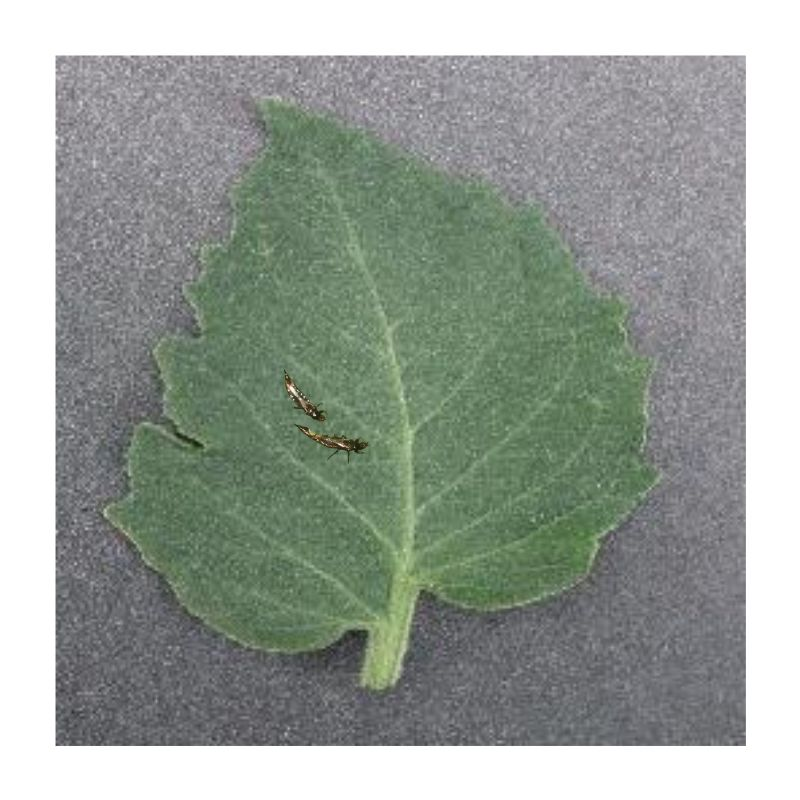thrips: (296, 422, 369, 461), (279, 368, 329, 422)
